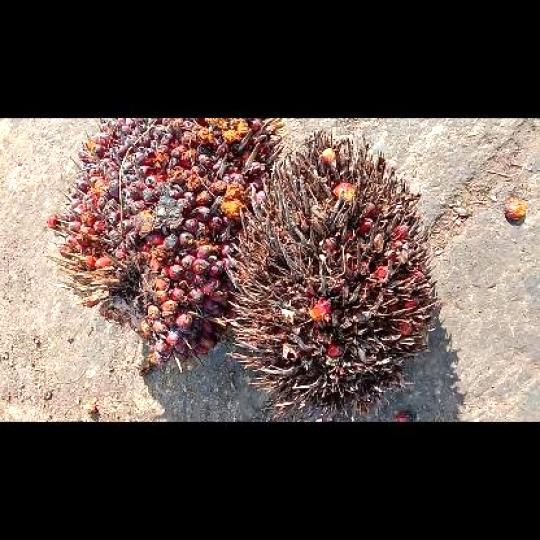masak: (52, 118, 283, 370)
terlalu masak: (225, 133, 437, 420)
